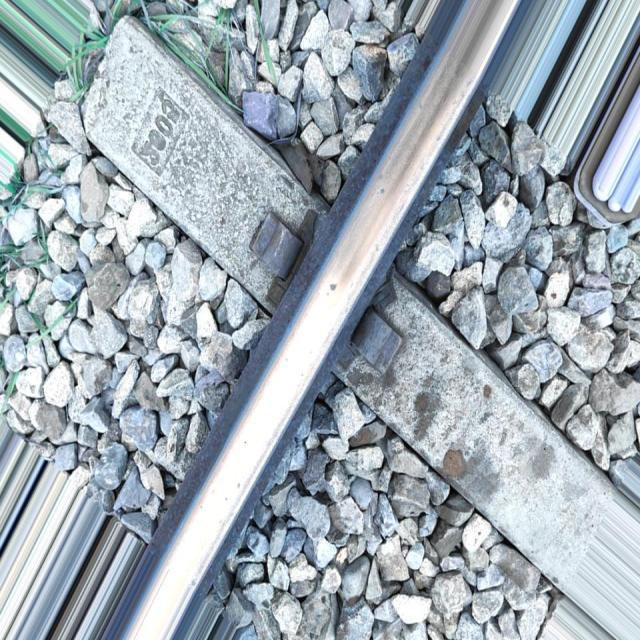Missing Fastener: (353, 284, 406, 383), (250, 210, 304, 280)
